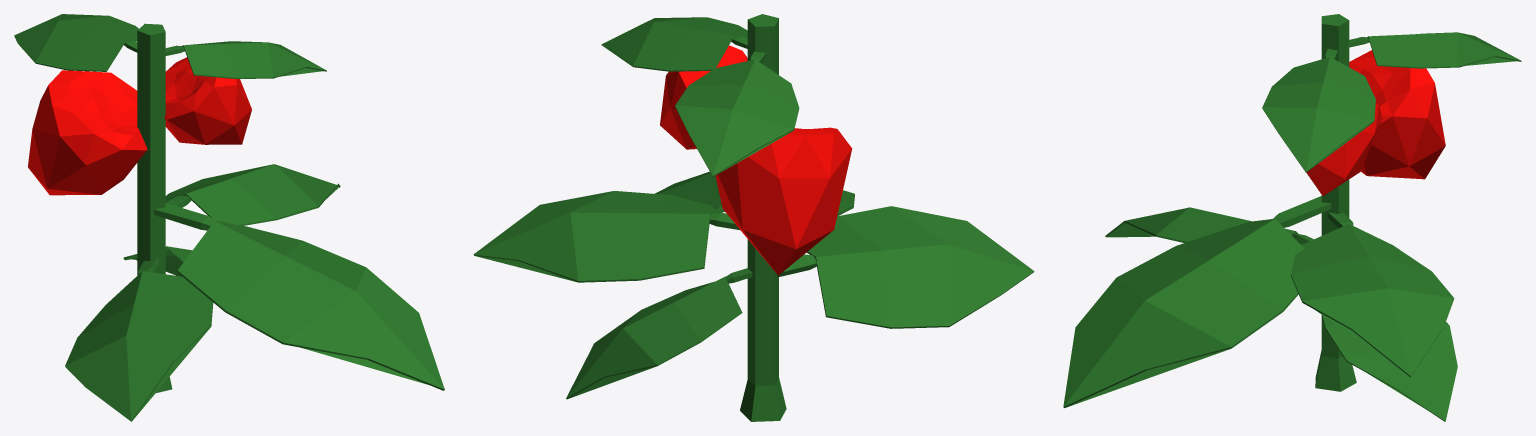
The model's file is StrawberryPlant_Stage_02.fbx.
3 renders of one model, left to right at view 1: azimuth 30°, elevation 25°; view 2: azimuth 150°, elevation 25°; view 3: azimuth 270°, elevation 25°, orthographic. The views are drawn at different scales.
Visible parts, largest first — view 1: StrawberryPlant_Stage_02; view 2: StrawberryPlant_Stage_02; view 3: StrawberryPlant_Stage_02.
Boxes of the visible parts, x1,y1,x2,y2 form: StrawberryPlant_Stage_02: (14, 14, 444, 421); StrawberryPlant_Stage_02: (473, 14, 1034, 421); StrawberryPlant_Stage_02: (1063, 14, 1521, 421).
Bounding box in the file's own units: 195 × 180 × 206.
